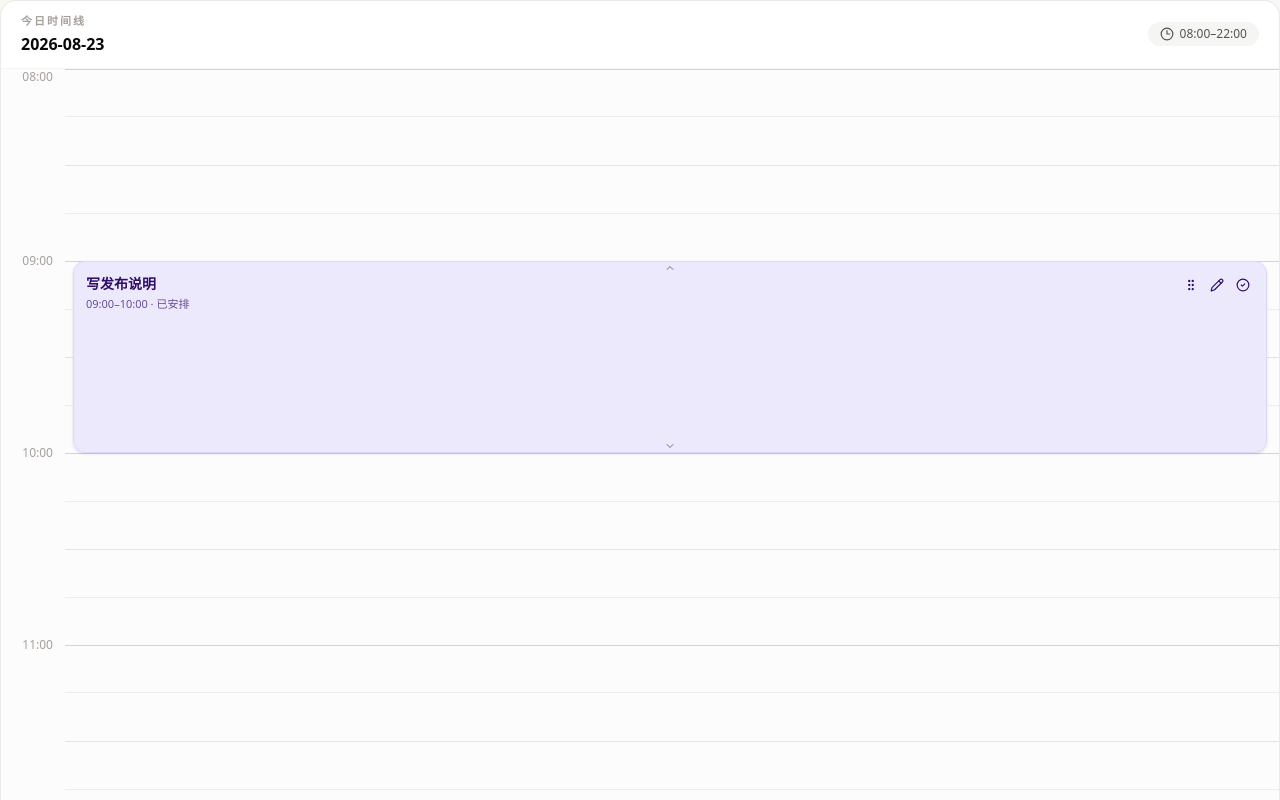
manual scheduling components › clears an active resize on Escape without committing
Press the mouse on the button named "调整 写发布说明 的结束时间" at (670, 446), box [74,440,1266,452]
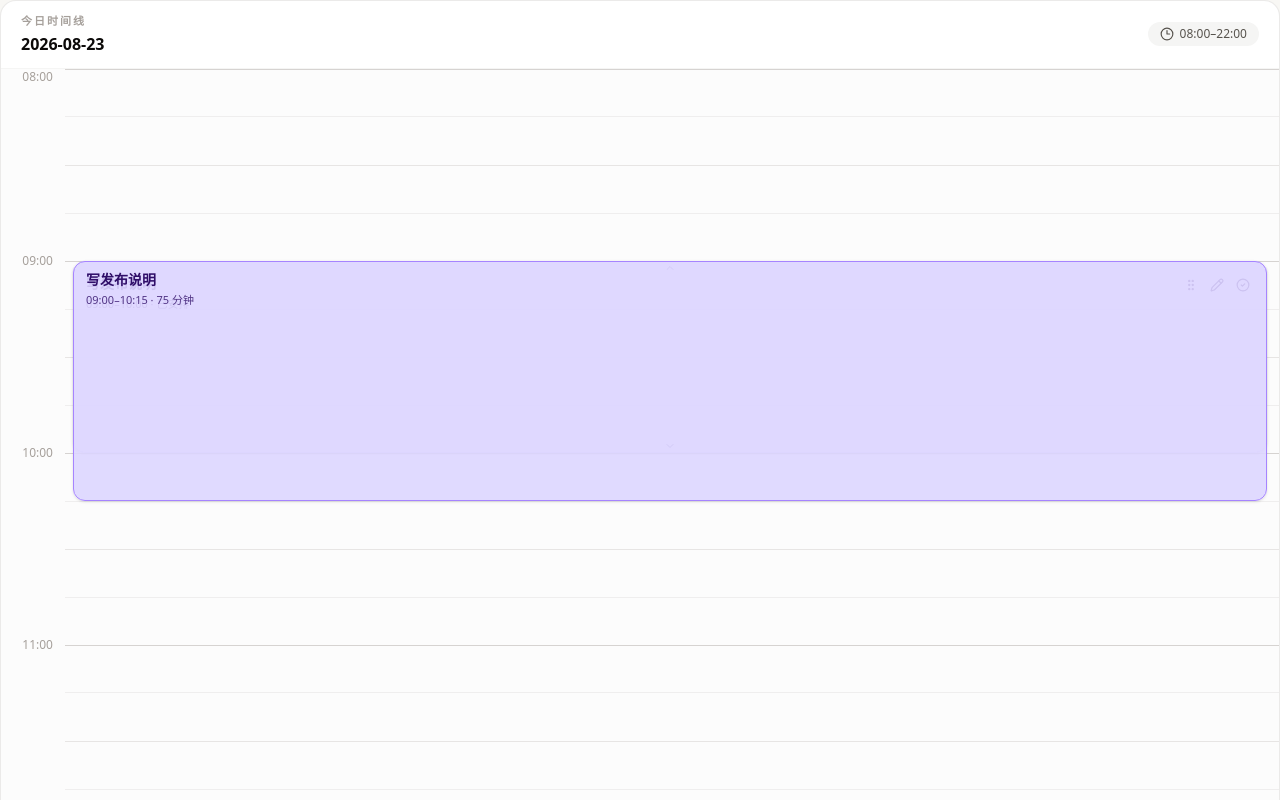
Now the element with test id "timeline-placement-preview" is shown, box [73,260,1267,500]
Press Escape
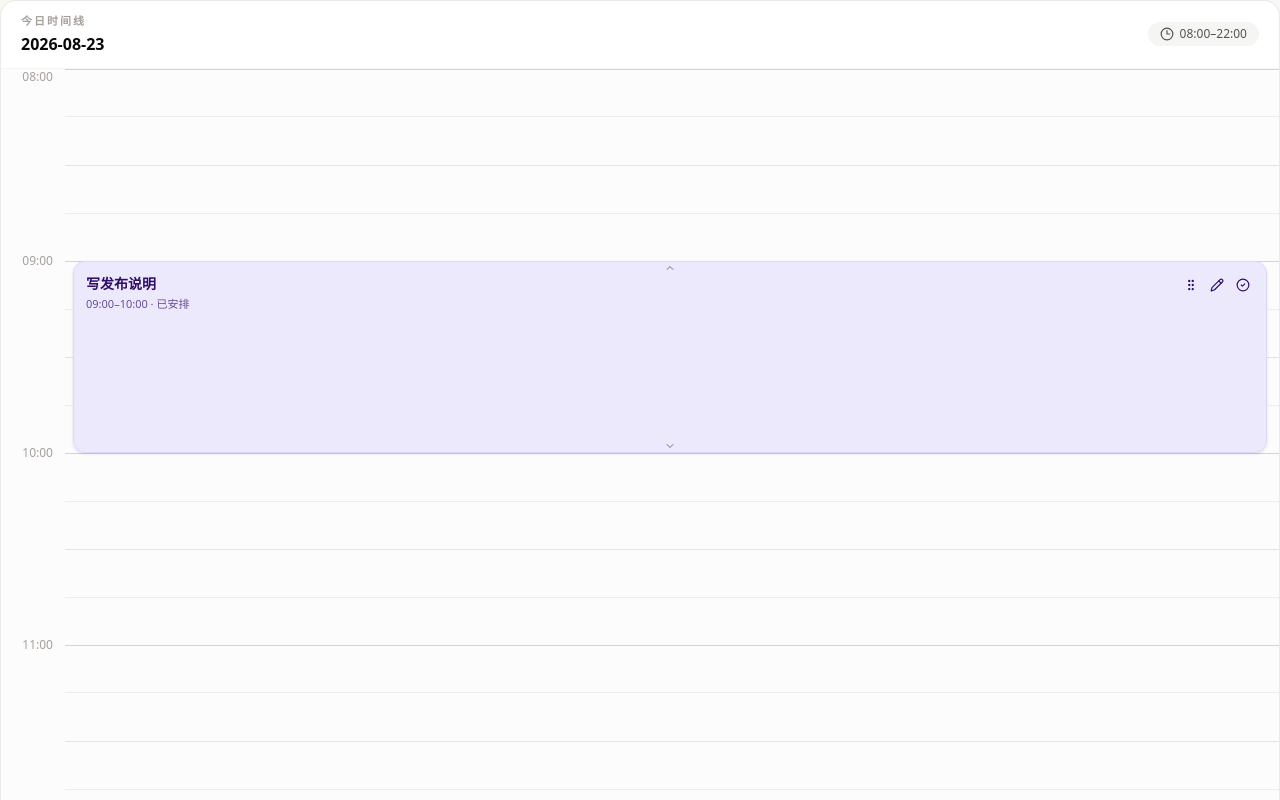
Now the element with test id "timeline-placement-preview" is gone
